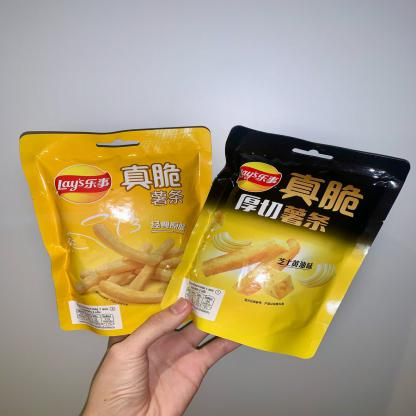potatochip: (156, 120, 416, 365), (8, 123, 232, 344)
